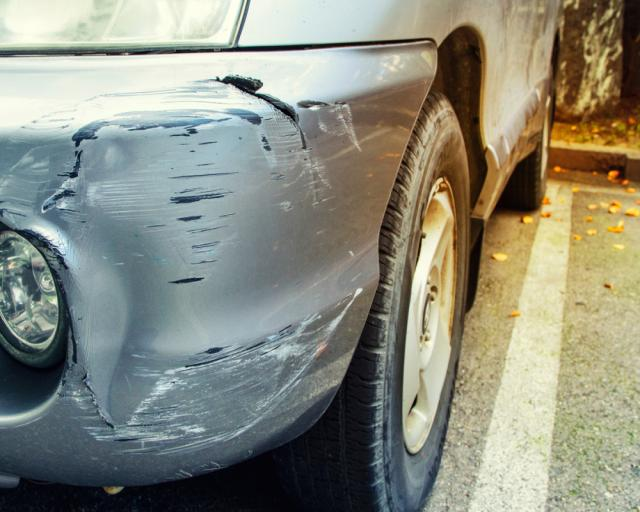crack: (193, 75, 351, 157)
dent: (69, 223, 162, 425)
scratch: (0, 75, 376, 454)
